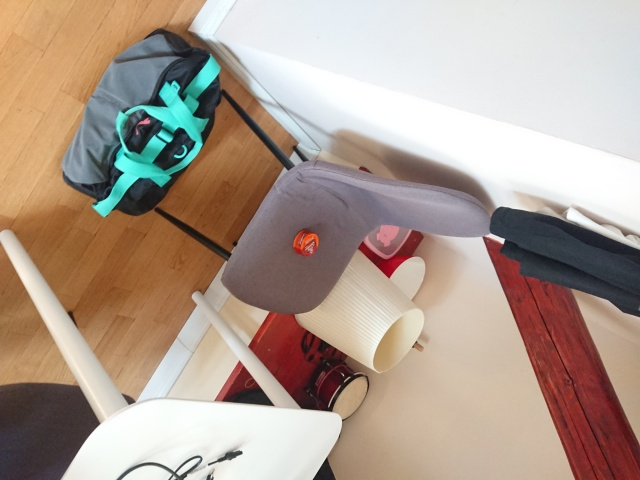Gavrilovic Pork Liver Pate 100g: (291, 227, 320, 257)
